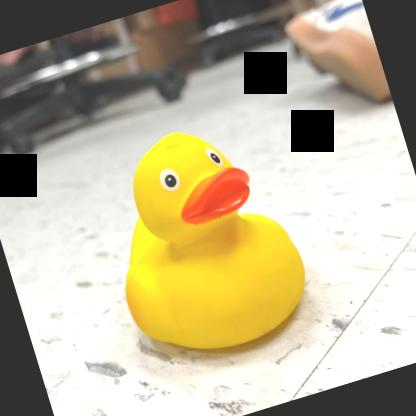duck: (79, 98, 327, 378)
